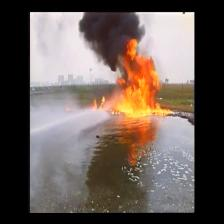fire: (32, 13, 171, 148)
